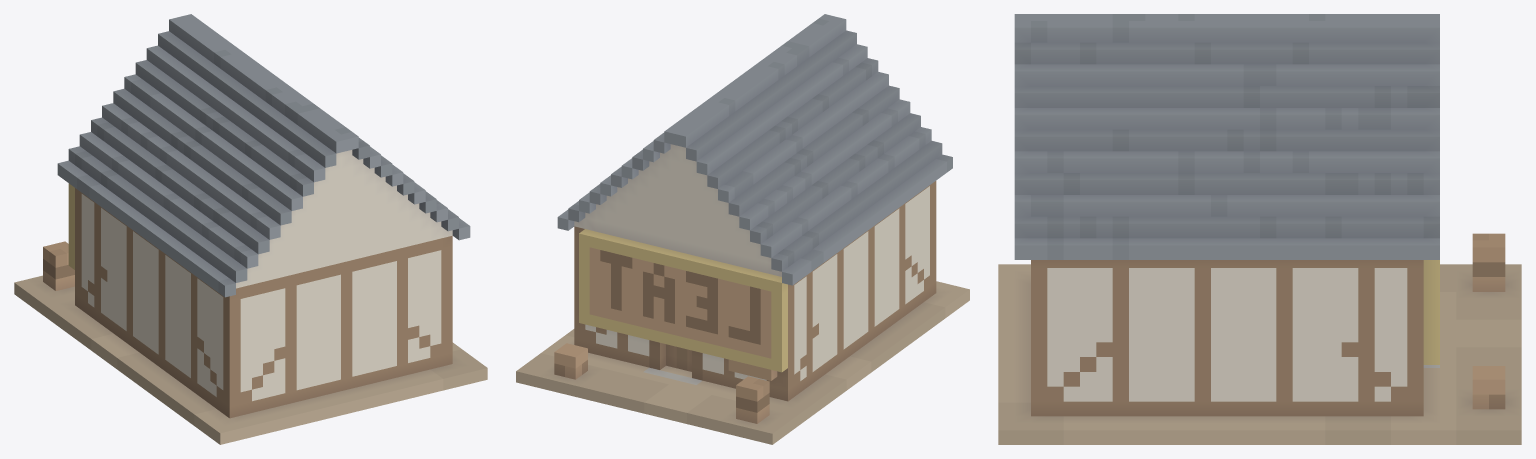
Rendered from leather_works.glb.
The picture shows the model from 3 angles, left to right: view 1: azimuth 30°, elevation 25°; view 2: azimuth 150°, elevation 25°; view 3: azimuth 270°, elevation 25°; orthographic projection. The views are drawn at different scales.
Parts seen in each view (by area): view 1: leather_works; view 2: leather_works; view 3: leather_works.
Boxes of the visible parts, <box> form: leather_works: <box>14,14,487,444</box>; leather_works: <box>516,14,969,444</box>; leather_works: <box>998,14,1521,444</box>.
Size of the model in its own units: 3 by 2.88 by 4.
